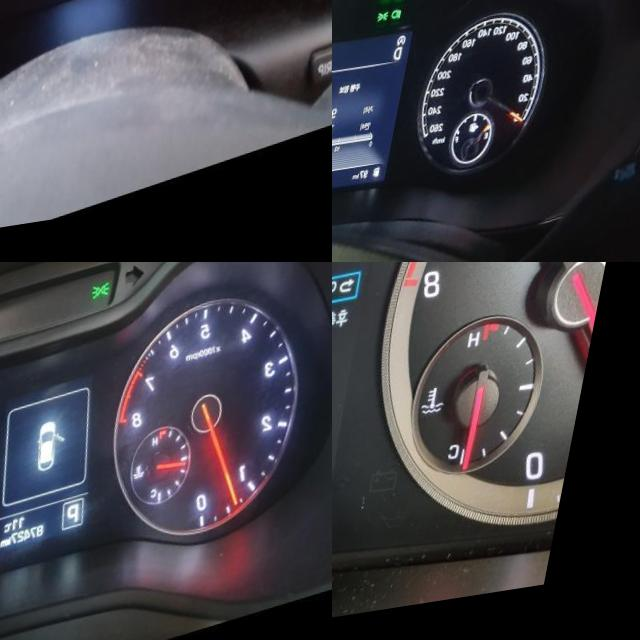Low beam: (400, 17, 412, 30)
SideLamp: (100, 289, 123, 310), (386, 19, 400, 32)
